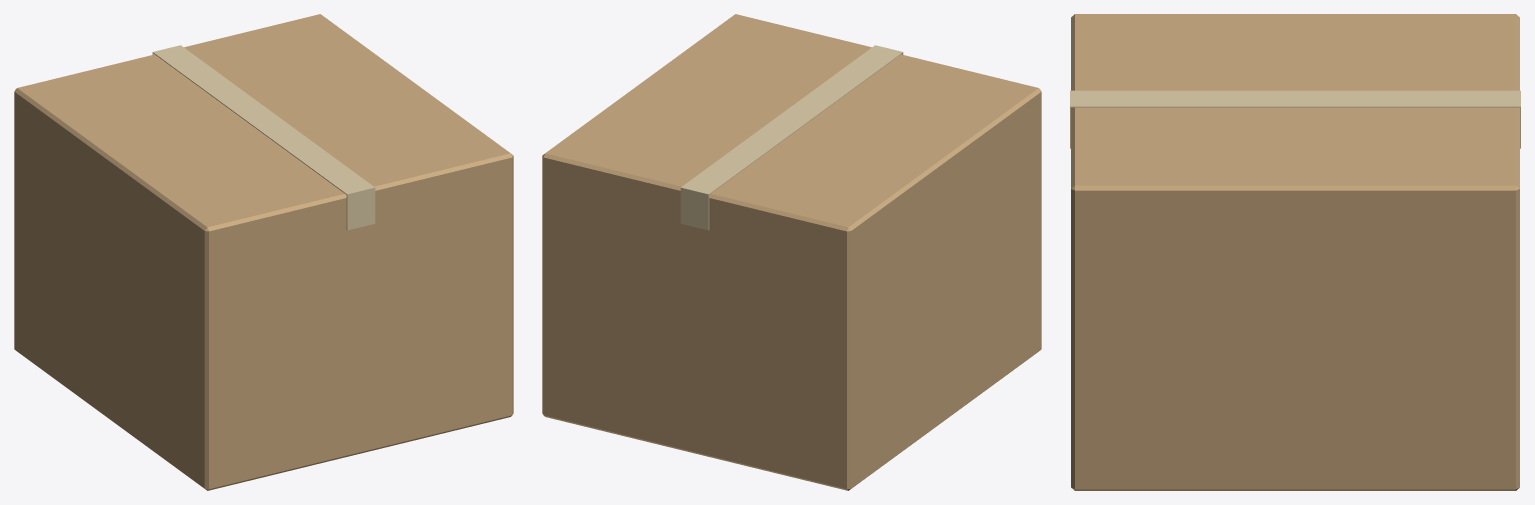
3 renders of one model, left to right at view 1: azimuth 30°, elevation 25°; view 2: azimuth 150°, elevation 25°; view 3: azimuth 270°, elevation 25°, orthographic. The views are drawn at different scales.
Visible parts, largest first — view 1: box_160; view 2: box_160; view 3: box_160.
Boxes of the visible parts, x1,y1,x2,y2 form: box_160: (14,14,513,490); box_160: (542,14,1041,490); box_160: (1070,14,1520,490).
Bounding box in the file's own units: 0.55 × 0.45 × 0.6.
